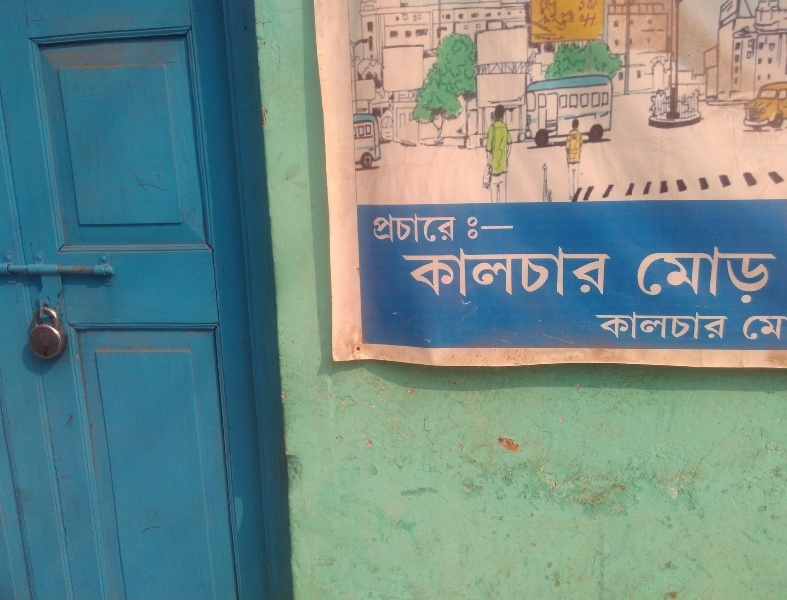text: (641, 243, 656, 306), (657, 243, 672, 306), (673, 243, 688, 306), (689, 243, 704, 306), (705, 243, 720, 306), (721, 243, 736, 306), (737, 243, 752, 306), (753, 243, 768, 306), (401, 244, 416, 297), (417, 244, 432, 297), (433, 244, 448, 297), (449, 244, 464, 297), (465, 244, 480, 297), (481, 244, 496, 297), (497, 244, 512, 297), (513, 244, 528, 297), (529, 244, 544, 297), (545, 244, 560, 297), (561, 244, 576, 297), (577, 244, 592, 297), (593, 244, 608, 297), (769, 243, 778, 306), (609, 311, 624, 343), (625, 311, 640, 343), (641, 311, 656, 343), (657, 311, 672, 343), (673, 311, 688, 343), (689, 311, 704, 343), (705, 311, 720, 343), (385, 213, 400, 243), (401, 213, 416, 243), (417, 213, 432, 243), (433, 213, 448, 243), (594, 311, 608, 343), (753, 314, 768, 341), (769, 314, 784, 341), (481, 217, 496, 243), (497, 217, 512, 243), (609, 244, 616, 297), (467, 217, 480, 243), (721, 311, 731, 343), (374, 213, 384, 243), (449, 213, 457, 243), (744, 314, 752, 341), (785, 314, 787, 341), (399, 244, 400, 297), (513, 217, 515, 243)
